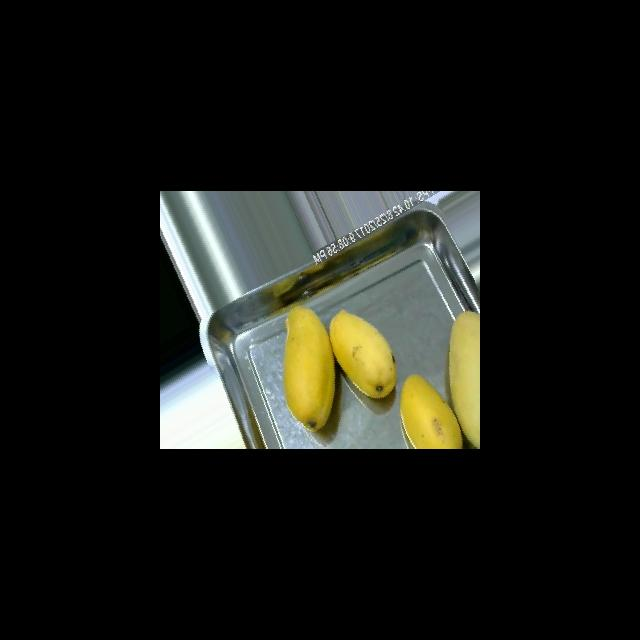mango: (282, 305, 337, 433), (327, 308, 398, 400), (398, 374, 465, 449), (448, 310, 480, 449)
